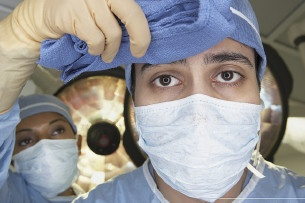Mask: (132, 50, 283, 202)
